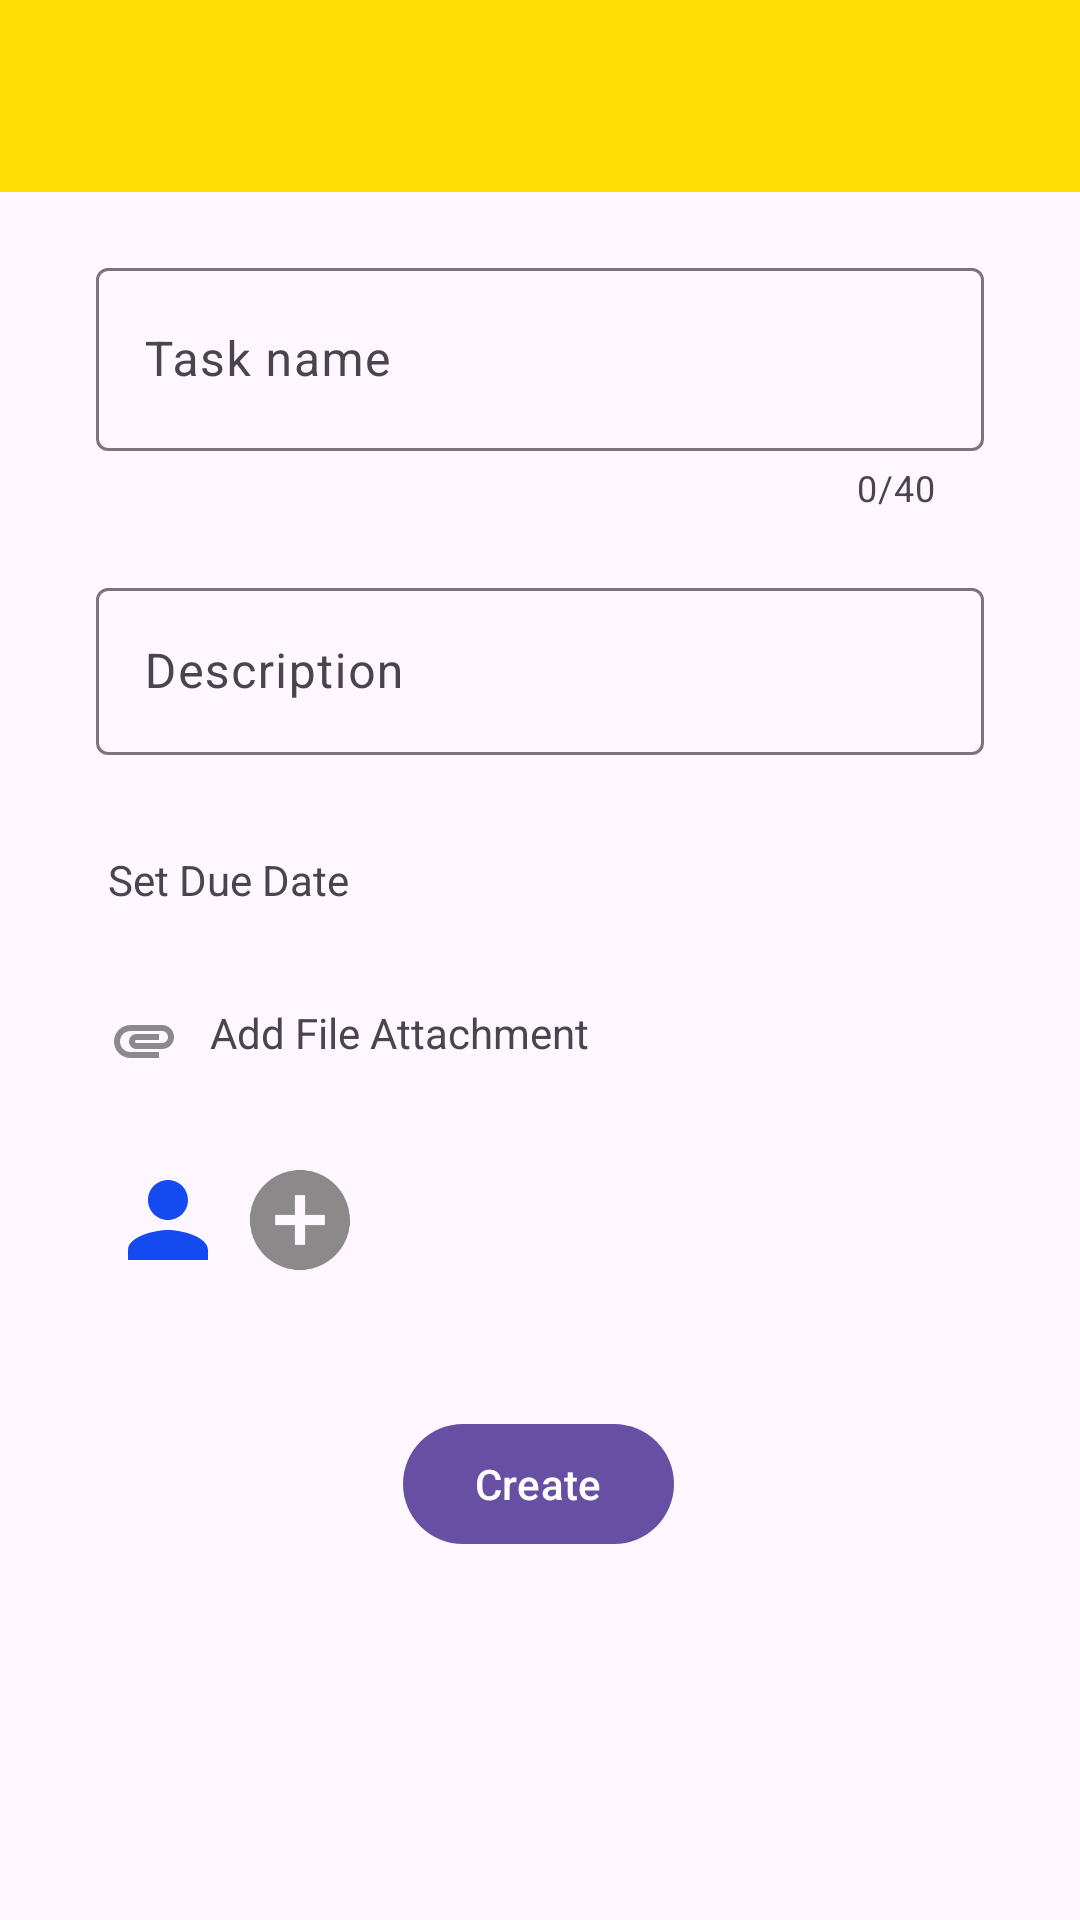

Icons on this 1080×1920 Android screen, each with the point to tap as point (x, y):
add circle: point (300, 1220)
person: point (168, 1220)
